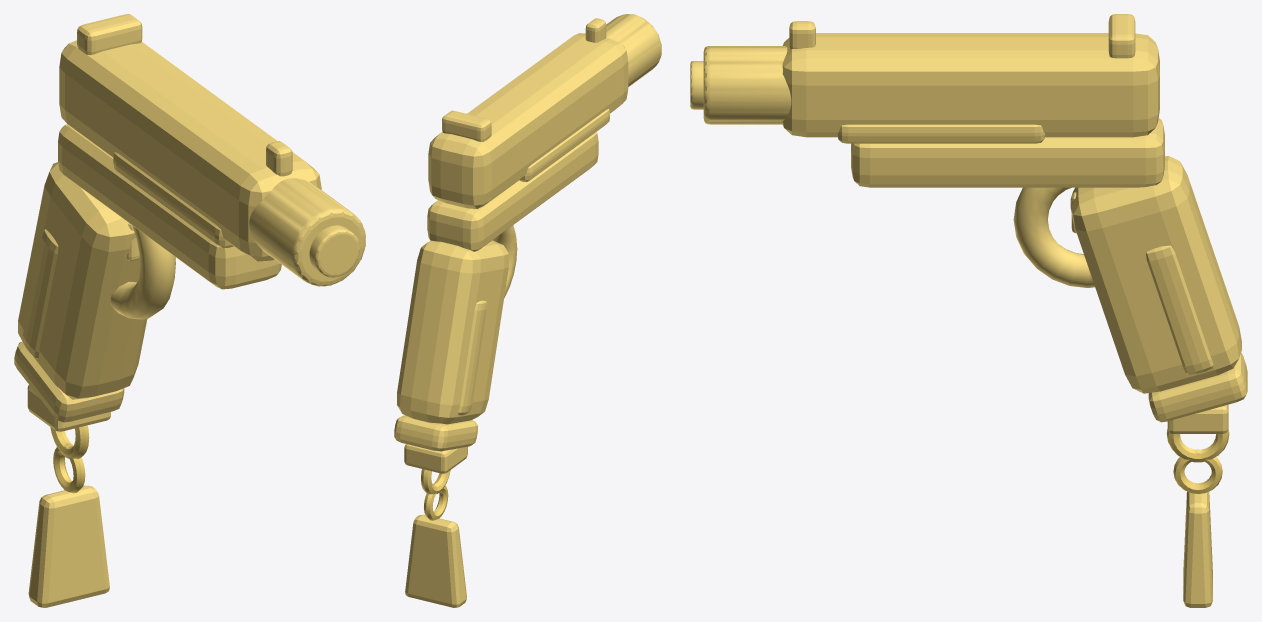
Rendered from pistol_gold.glb.
3 renders of one model, left to right at view 1: azimuth 30°, elevation 25°; view 2: azimuth 150°, elevation 25°; view 3: azimuth 270°, elevation 25°, orthographic. The views are drawn at different scales.
Parts seen in each view (by area): view 1: WPN_Pistol_Slide_Gold.001, WPN_Pistol_Grip_Gold.001, WPN_Pistol_Frame_Gold.001, WPN_Pistol_GoldBar.001, WPN_Pistol_Barrel_Gold.001, WPN_Pistol_Guard_Gold.001, WPN_Pistol_MagBase_Gold.001, WPN_Pistol_GripPad_Gold.001, WPN_Pistol_Stripe_Gold.001, WPN_Pistol_Muzzle_Gold.001, WPN_Pistol_SightR_Gold.001, WPN_Pistol_MountPlate.001 (+3 smaller); view 2: WPN_Pistol_Slide_Gold.001, WPN_Pistol_Grip_Gold.001, WPN_Pistol_Frame_Gold.001, WPN_Pistol_GoldBar.001, WPN_Pistol_Barrel_Gold.001, WPN_Pistol_MagBase_Gold.001, WPN_Pistol_GripPad_Gold.001, WPN_Pistol_Stripe_Gold.001, WPN_Pistol_MountPlate.001, WPN_Pistol_SightR_Gold.001, WPN_Pistol_Guard_Gold.001, WPN_Pistol_CharmLink.001 (+2 smaller); view 3: WPN_Pistol_Slide_Gold.001, WPN_Pistol_Grip_Gold.001, WPN_Pistol_Frame_Gold.001, WPN_Pistol_Barrel_Gold.001, WPN_Pistol_Guard_Gold.001, WPN_Pistol_Stripe_Gold.001, WPN_Pistol_GripPad_Gold.001, WPN_Pistol_MagBase_Gold.001, WPN_Pistol_GoldBar.001, WPN_Pistol_MountPlate.001, WPN_Pistol_SightR_Gold.001, WPN_Pistol_CharmLink.001 (+1 smaller).
Part boxes in pixels (x1=…): WPN_Pistol_Slide_Gold.001: x1=59, y1=40, x2=321, y2=261; WPN_Pistol_Grip_Gold.001: x1=18, y1=162, x2=147, y2=399; WPN_Pistol_Frame_Gold.001: x1=58, y1=124, x2=281, y2=289; WPN_Pistol_GoldBar.001: x1=28, y1=485, x2=109, y2=607; WPN_Pistol_Barrel_Gold.001: x1=249, y1=178, x2=365, y2=286; WPN_Pistol_Guard_Gold.001: x1=110, y1=225, x2=175, y2=319; WPN_Pistol_MagBase_Gold.001: x1=14, y1=341, x2=124, y2=422; WPN_Pistol_GripPad_Gold.001: x1=22, y1=229, x2=58, y2=359; WPN_Pistol_Stripe_Gold.001: x1=113, y1=152, x2=233, y2=248; WPN_Pistol_Muzzle_Gold.001: x1=309, y1=225, x2=360, y2=277; WPN_Pistol_SightR_Gold.001: x1=77, y1=14, x2=142, y2=54; WPN_Pistol_MountPlate.001: x1=27, y1=385, x2=110, y2=431; WPN_Pistol_Slide_Gold.001: x1=428, y1=33, x2=628, y2=208; WPN_Pistol_Grip_Gold.001: x1=397, y1=240, x2=508, y2=424; WPN_Pistol_Frame_Gold.001: x1=427, y1=132, x2=598, y2=251; WPN_Pistol_GoldBar.001: x1=405, y1=514, x2=466, y2=607; WPN_Pistol_Barrel_Gold.001: x1=606, y1=14, x2=661, y2=86; WPN_Pistol_MagBase_Gold.001: x1=394, y1=415, x2=477, y2=451; WPN_Pistol_GripPad_Gold.001: x1=458, y1=300, x2=486, y2=415; WPN_Pistol_Stripe_Gold.001: x1=519, y1=109, x2=609, y2=181; WPN_Pistol_MountPlate.001: x1=404, y1=444, x2=467, y2=473; WPN_Pistol_SightR_Gold.001: x1=442, y1=110, x2=491, y2=141; WPN_Pistol_Guard_Gold.001: x1=493, y1=225, x2=517, y2=297; WPN_Pistol_CharmLink.001: x1=424, y1=482, x2=448, y2=520; WPN_Pistol_Slide_Gold.001: x1=782, y1=33, x2=1159, y2=137; WPN_Pistol_Grip_Gold.001: x1=1070, y1=156, x2=1241, y2=393; WPN_Pistol_Frame_Gold.001: x1=851, y1=118, x2=1164, y2=187; WPN_Pistol_Barrel_Gold.001: x1=703, y1=46, x2=791, y2=124; WPN_Pistol_Guard_Gold.001: x1=1013, y1=187, x2=1094, y2=287; WPN_Pistol_Stripe_Gold.001: x1=837, y1=124, x2=1045, y2=143; WPN_Pistol_GripPad_Gold.001: x1=1146, y1=245, x2=1213, y2=374; WPN_Pistol_MagBase_Gold.001: x1=1148, y1=353, x2=1247, y2=422; WPN_Pistol_GoldBar.001: x1=1183, y1=491, x2=1212, y2=607; WPN_Pistol_MountPlate.001: x1=1167, y1=404, x2=1228, y2=433; WPN_Pistol_SightR_Gold.001: x1=1108, y1=14, x2=1135, y2=58; WPN_Pistol_CharmLink.001: x1=1173, y1=449, x2=1222, y2=493.
Bounding box in the file's own units: 0.048 × 0.3313 × 0.2931.
